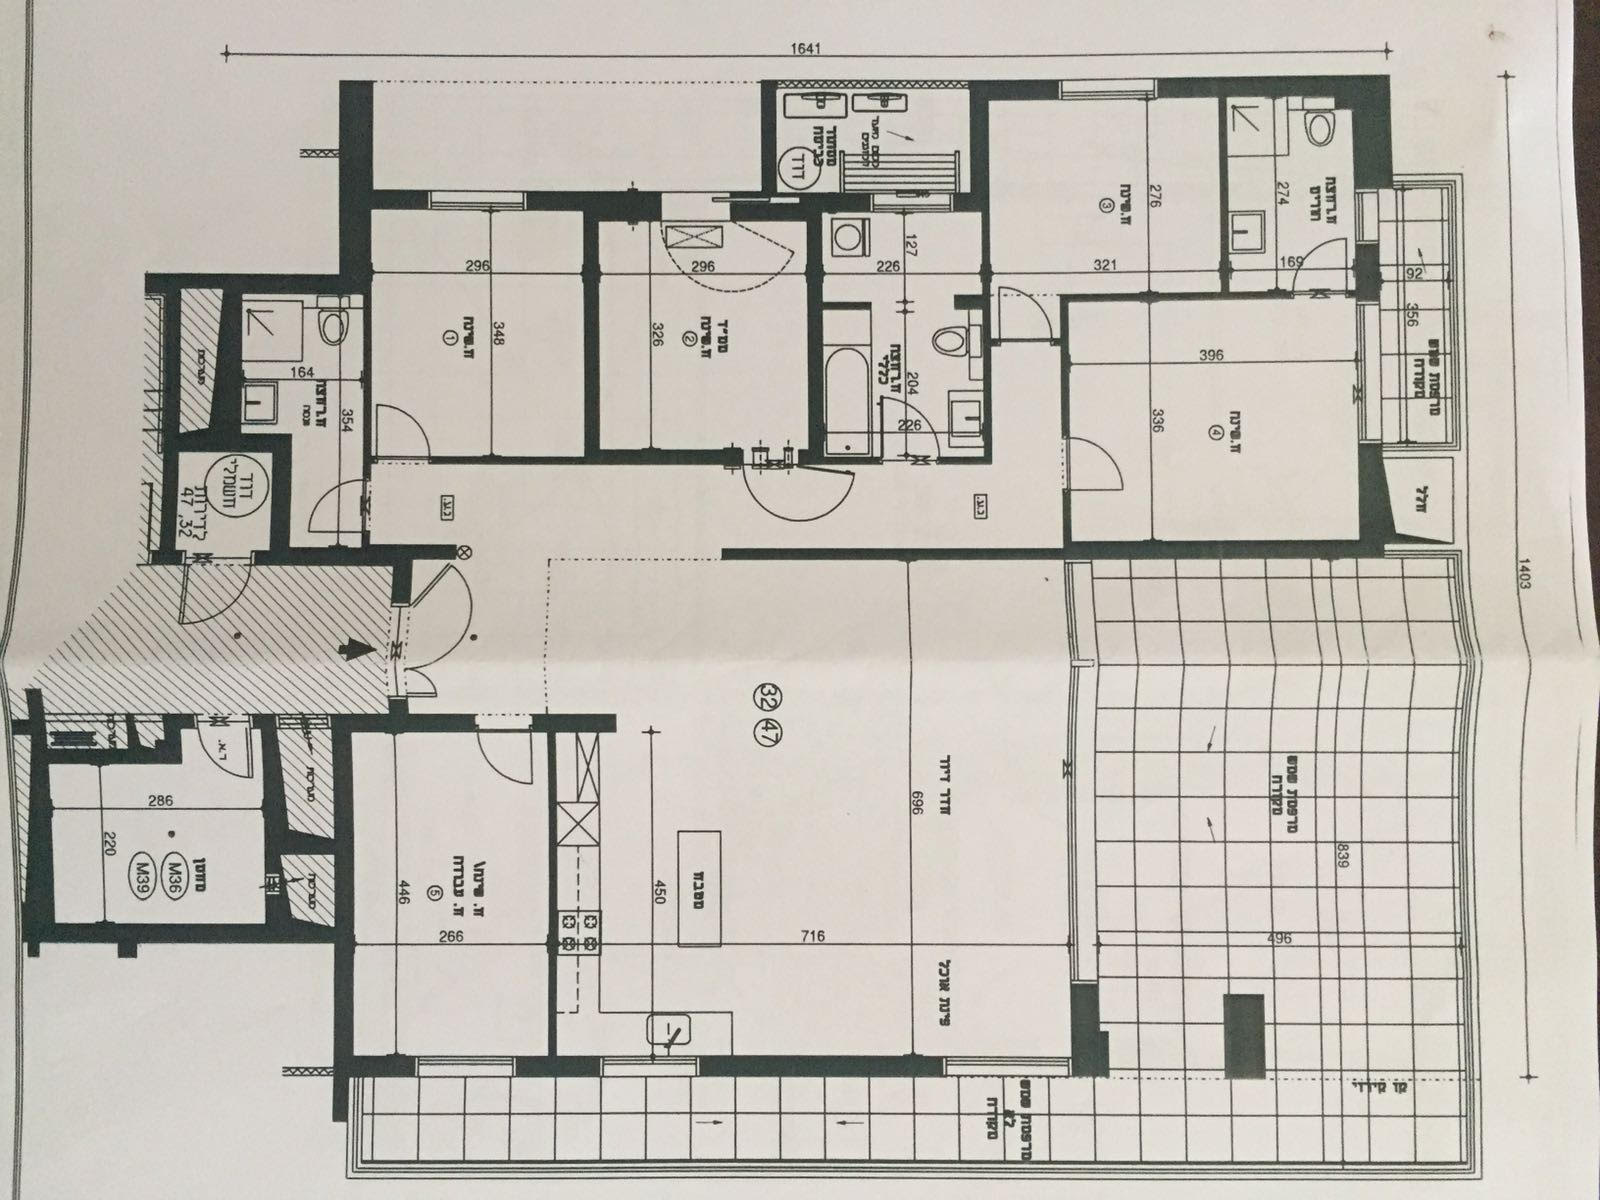door: (173, 568, 258, 632), (877, 391, 941, 453), (1070, 434, 1134, 495), (1289, 227, 1353, 287), (991, 281, 1054, 342), (301, 475, 362, 537), (373, 400, 435, 453)
wall: (339, 82, 372, 295), (585, 211, 600, 464), (808, 222, 823, 466), (528, 192, 661, 211), (971, 81, 989, 211), (762, 79, 776, 193)
window: (1356, 303, 1382, 442), (939, 1053, 1068, 1079), (600, 1053, 700, 1079), (414, 1055, 518, 1076), (428, 190, 527, 211), (1060, 81, 1157, 100), (871, 192, 954, 212), (1354, 188, 1380, 245)
